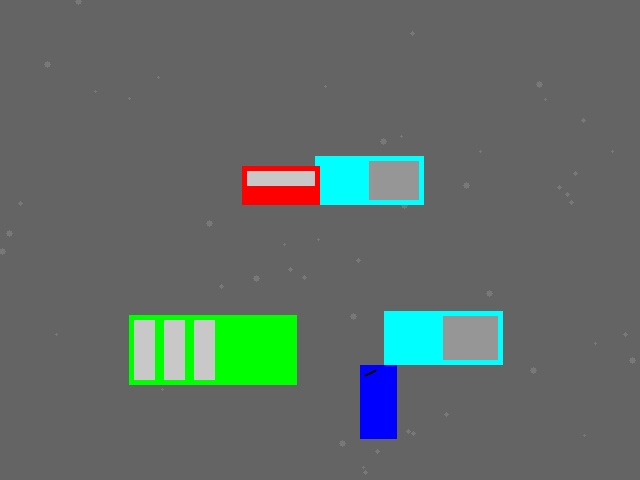bus: (129, 315, 296, 384)
car: (242, 166, 319, 204)
motorcycle: (360, 365, 396, 438)
truck: (384, 311, 502, 364), (315, 156, 423, 204)
